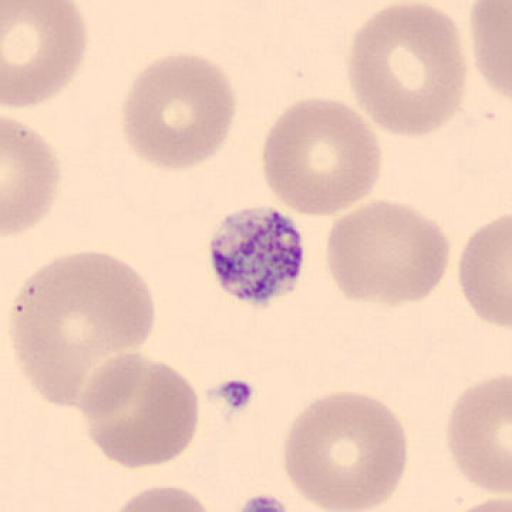Platelet: (206, 205, 310, 306)
RBC: (12, 250, 154, 407), (347, 2, 468, 140), (281, 389, 409, 512), (261, 96, 383, 219), (76, 351, 200, 470), (324, 198, 452, 308), (121, 52, 237, 172), (34, 249, 157, 358), (2, 0, 90, 110), (445, 373, 512, 494), (2, 118, 61, 238), (458, 212, 512, 331), (469, 1, 512, 101), (110, 484, 218, 512), (448, 495, 512, 512)
